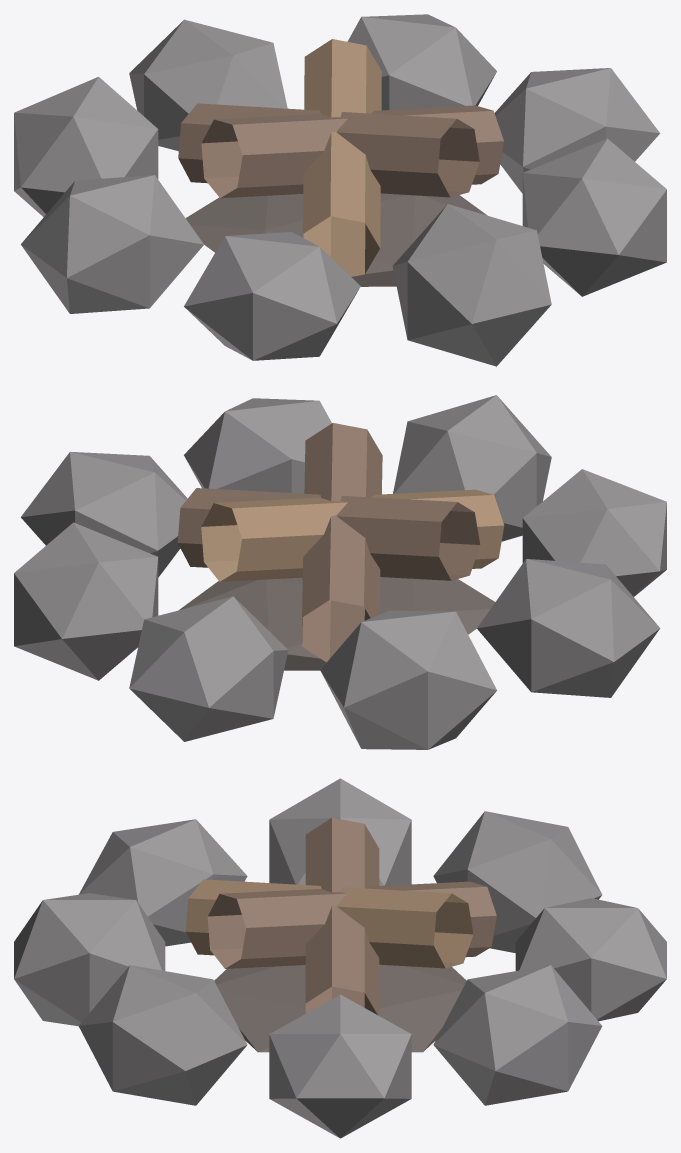
3 renders of one model, top to bottom at view 1: azimuth 30°, elevation 25°; view 2: azimuth 150°, elevation 25°; view 3: azimuth 270°, elevation 25°, orthographic. The views are drawn at different scales.
Parts seen in each view (by area): view 1: C09; view 2: C09; view 3: C09.
Boxes of the visible parts, box(x1,y1,x2,y2) form: C09: box(14, 14, 666, 366); C09: box(14, 395, 666, 749); C09: box(14, 778, 666, 1138).
Size of the model in its own units: 1.25 by 0.3186 by 1.25.
